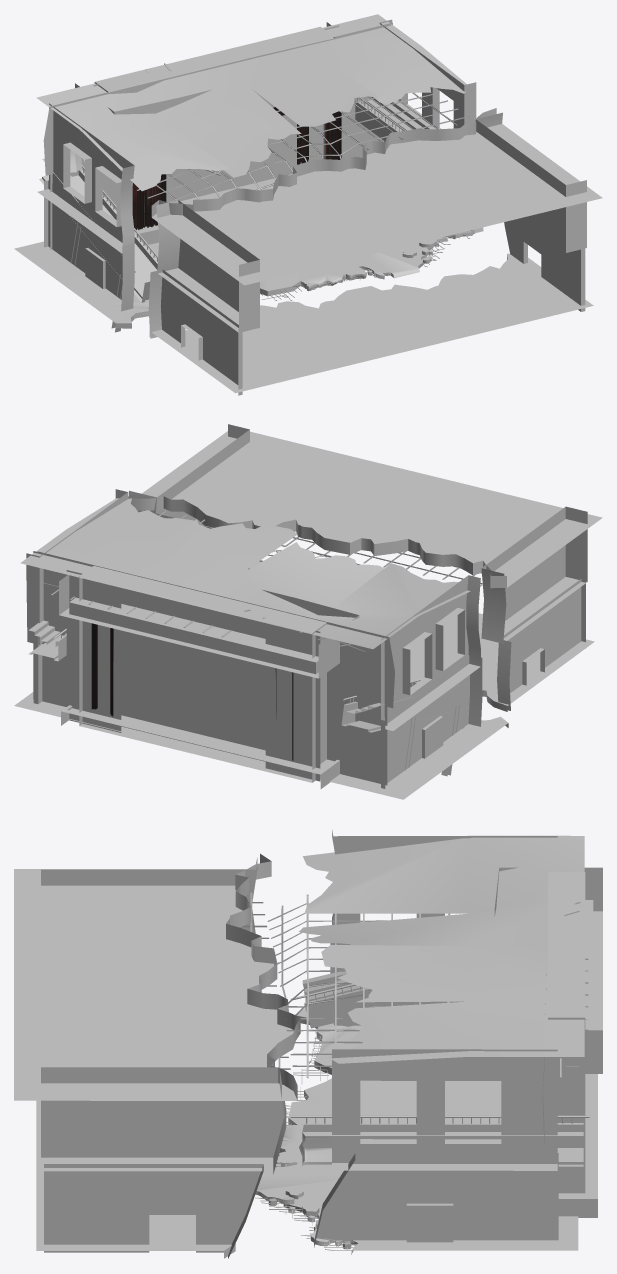
The model's file is auditorium.fbx.
3 renders of one model, top to bottom at view 1: azimuth 30°, elevation 25°; view 2: azimuth 150°, elevation 25°; view 3: azimuth 270°, elevation 25°, orthographic. The views are drawn at different scales.
Visible parts, largest first — view 1: auditorium_full:partB, auditorium_full:partA, auditorium_full:metals, auditorium_full:woodA, auditorium_full:curtain; view 2: auditorium_full:partA, auditorium_full:partB, auditorium_full:woodA, auditorium_full:curtain, auditorium_full:metals, auditorium_full:roofB; view 3: auditorium_full:partA, auditorium_full:partB, auditorium_full:woodA, auditorium_full:metals.
Part boxes in pixels (x1,y1,x2,y2): auditorium_full:partB: (148,108,602,395); auditorium_full:partA: (14,14,483,332); auditorium_full:metals: (82,63,472,315); auditorium_full:woodA: (43,22,390,245); auditorium_full:curtain: (132,107,341,230); auditorium_full:partA: (14,489,508,799); auditorium_full:partB: (128,424,602,711); auditorium_full:woodA: (37,551,394,788); auditorium_full:curtain: (91,623,293,760); auditorium_full:metals: (43,510,422,703); auditorium_full:roofB: (158,511,482,584); auditorium_full:partA: (255,830,585,1254); auditorium_full:partB: (14,853,300,1258); auditorium_full:woodA: (494,867,602,1217); auditorium_full:metals: (255,894,589,1250).
Bounding box in the file's own units: 514 × 239 × 523.
